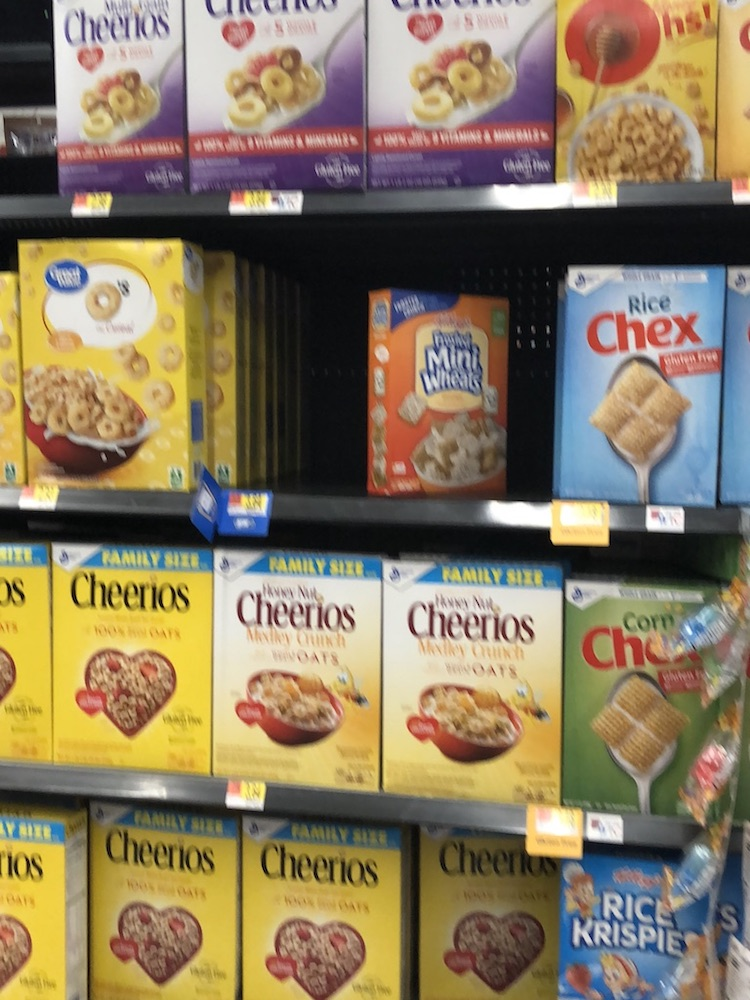Frosted Mini Original -9295869: (365, 295, 511, 486)
